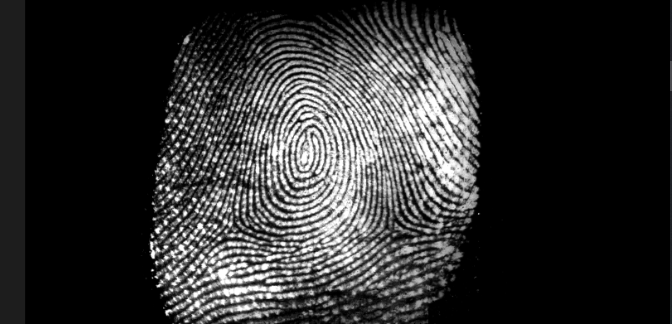deltas: (372, 199, 426, 252), (206, 212, 258, 256)
nucleo: (287, 117, 335, 181)
